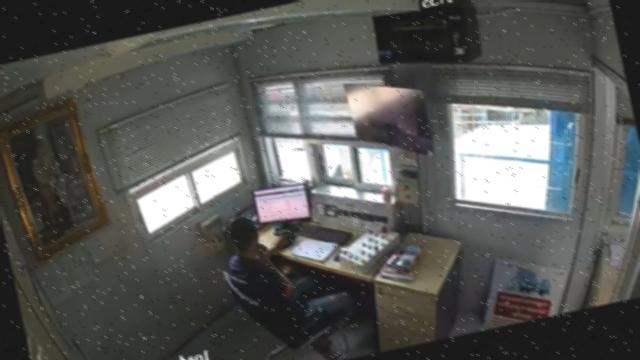Head: (213, 212, 270, 264)
People: (226, 219, 354, 331)
